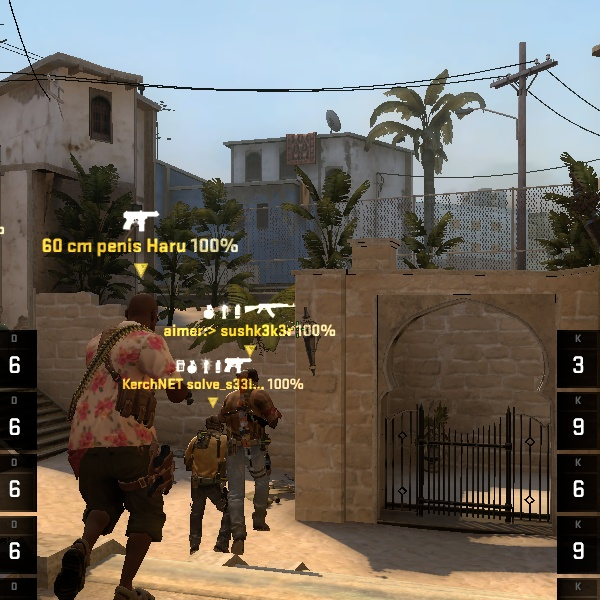t_head: (230, 359, 264, 397)
